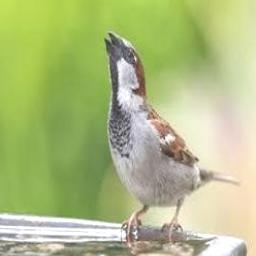Sparrow: (105, 31, 241, 242)
